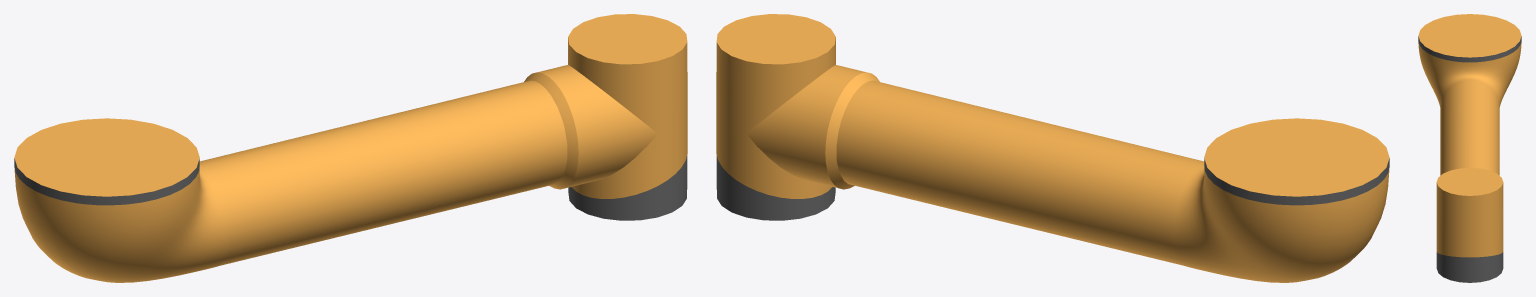
The picture shows the model from 3 angles, left to right: view 1: azimuth 30°, elevation 25°; view 2: azimuth 150°, elevation 25°; view 3: azimuth 270°, elevation 25°; orthographic projection. The views are drawn at different scales.
Parts seen in each view (by area): view 1: iS7-FBXASC194FBXASC182FBXASC194FBXASC168FBXASC195FBXASC150FB; view 2: iS7-FBXASC194FBXASC182FBXASC194FBXASC168FBXASC195FBXASC150FB; view 3: iS7-FBXASC194FBXASC182FBXASC194FBXASC168FBXASC195FBXASC150FB.
Part boxes in pixels (x1,y1,x2,y2): iS7-FBXASC194FBXASC182FBXASC194FBXASC168FBXASC195FBXASC150FB: (14,14,687,282); iS7-FBXASC194FBXASC182FBXASC194FBXASC168FBXASC195FBXASC150FB: (716,14,1389,282); iS7-FBXASC194FBXASC182FBXASC194FBXASC168FBXASC195FBXASC150FB: (1418,14,1521,282).
Bounding box in the file's own units: 0.4715 × 0.116 × 0.114.
